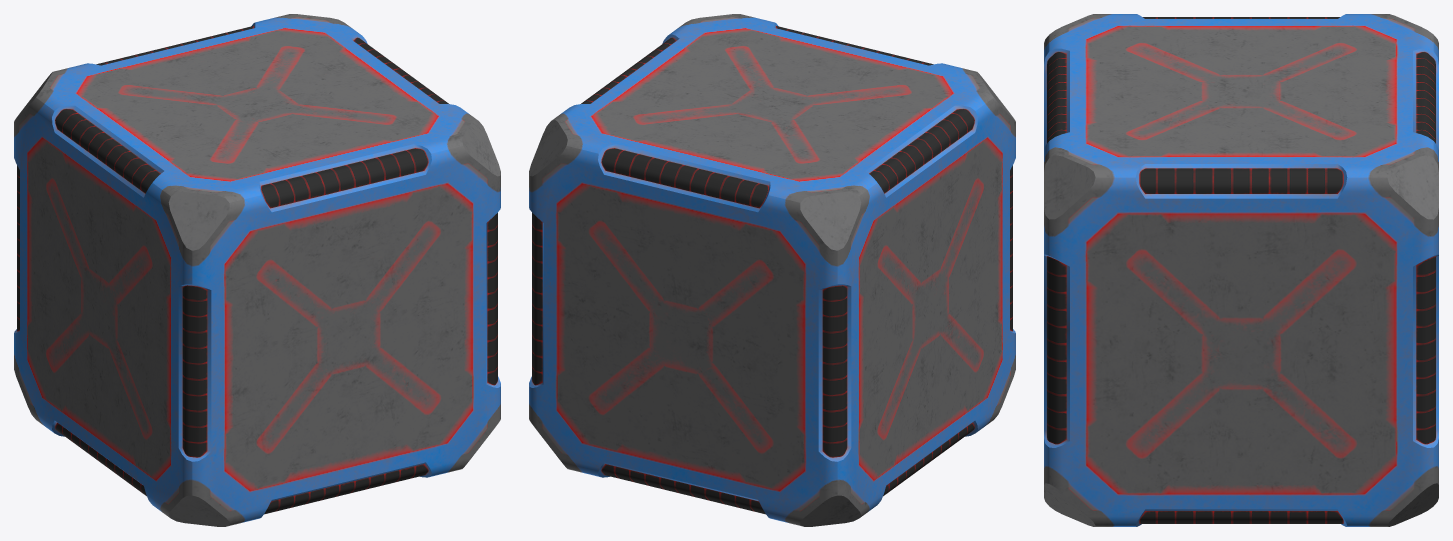
File: sci-fi_box.glb
3 views of the same model, side by side, from view 1: azimuth 30°, elevation 25°; view 2: azimuth 150°, elevation 25°; view 3: azimuth 270°, elevation 25° (orthographic). The views are drawn at different scales.
Visible parts, largest first — view 1: Object_2; view 2: Object_2; view 3: Object_2.
Boxes of the visible parts, x1,y1,x2,y2 form: Object_2: (14,14,500,526); Object_2: (529,14,1015,526); Object_2: (1044,14,1438,526).
Size of the model in its own units: 2 by 2 by 2.
1 material, 1 textured.
